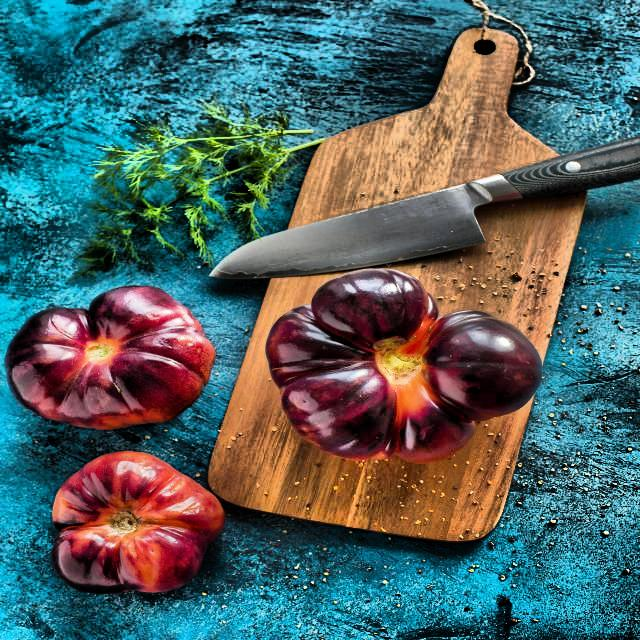knife: (202, 135, 640, 286)
